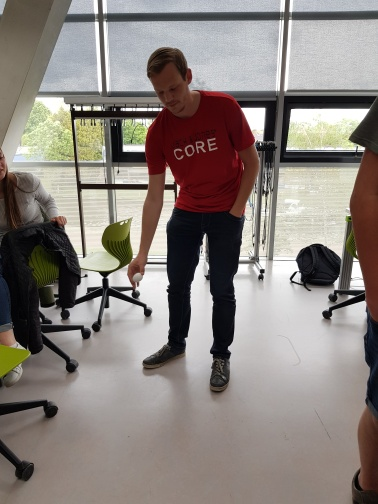egg: (132, 271, 145, 283)
